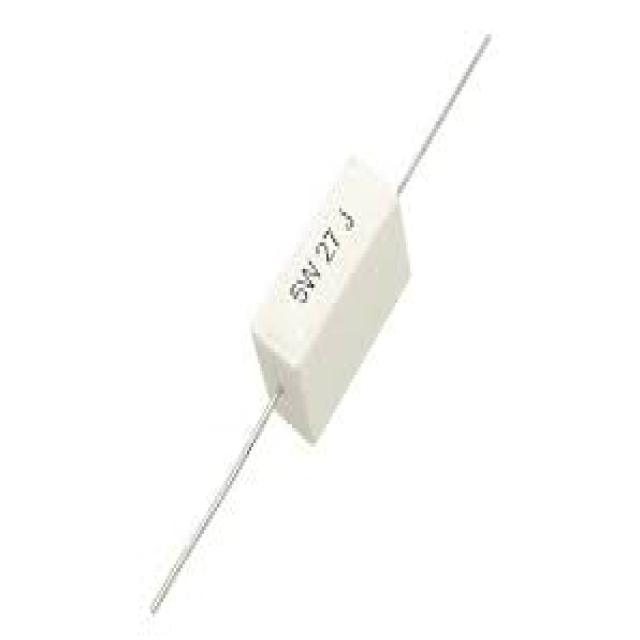Resistor: (249, 147, 414, 444)
